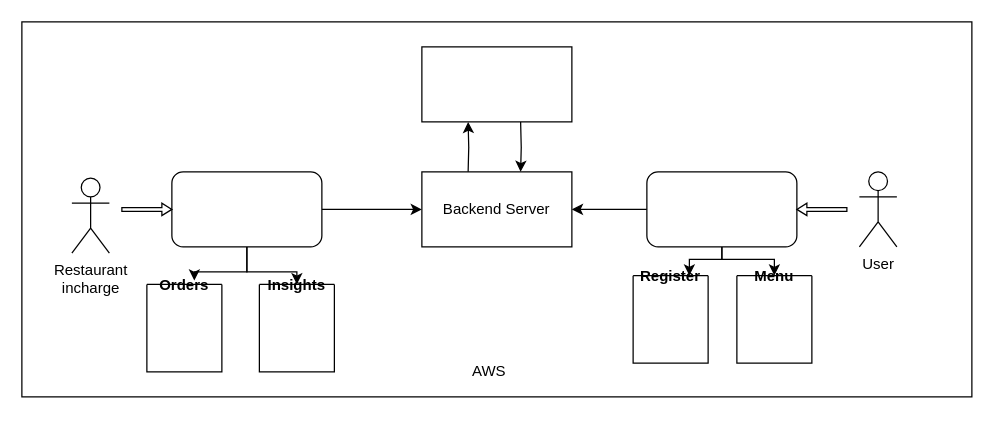
The diagram is 994 pixels wide and 429 high, and some of its shapes have lost their labels. Each missing label, with the centre of its shape:
"Dashboard" belongs at (x=246, y=209).
"Database" belongs at (x=496, y=84).
"User Interface" belongs at (x=721, y=209).
